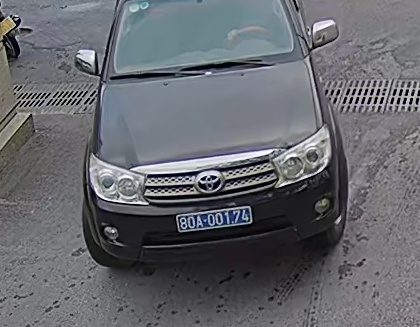vehicle plate: (175, 203, 255, 235)
